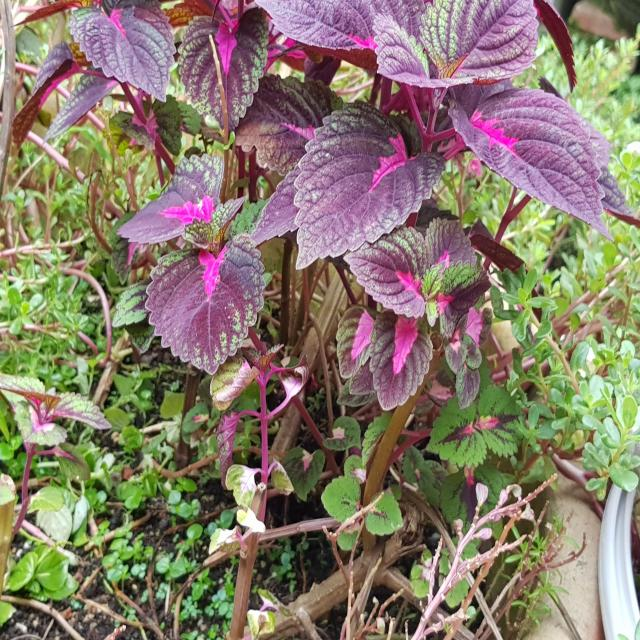Coleus: (114, 0, 490, 393)
